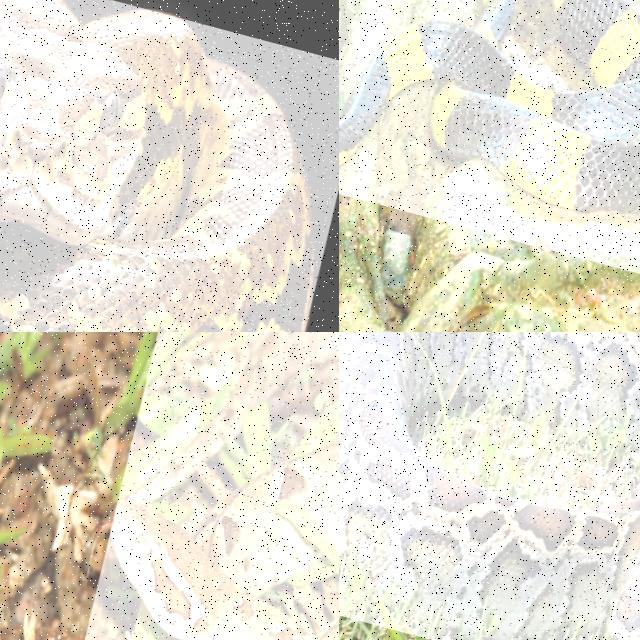Bungarus fasciatus: (339, 0, 639, 212)
Calloselasma rhodostoma: (111, 332, 338, 639)
Python bivittatus: (0, 0, 313, 331), (339, 332, 639, 639)
